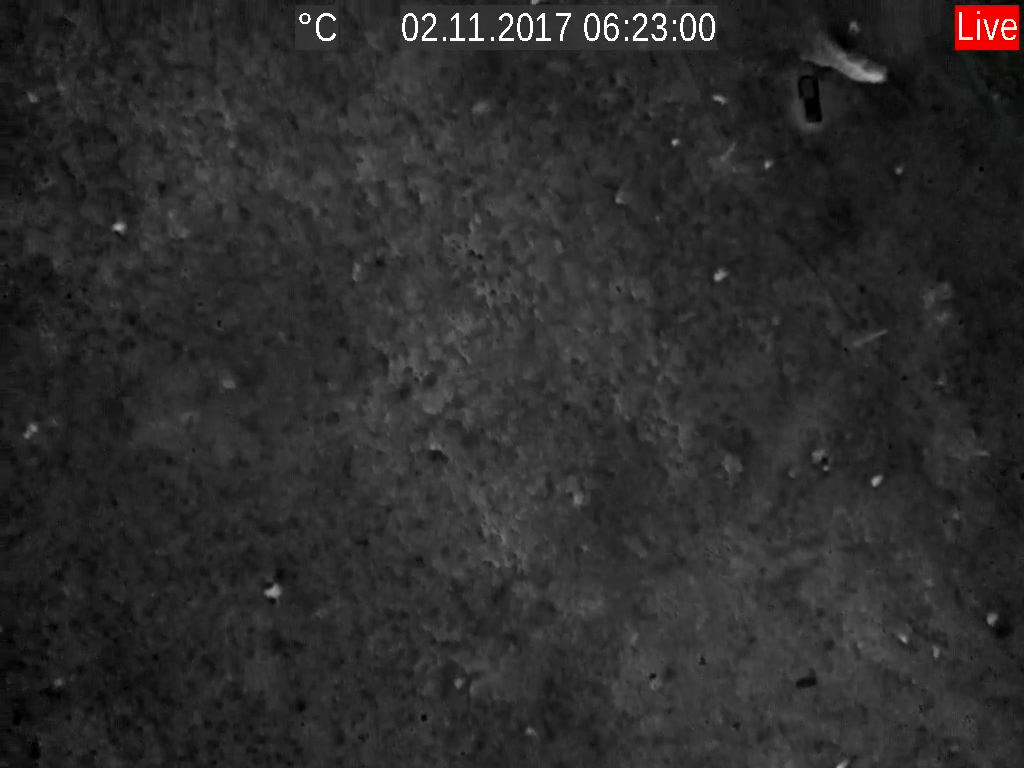warren: (811, 33, 890, 86), (845, 320, 893, 352), (259, 574, 288, 602), (105, 213, 134, 240), (716, 140, 743, 164), (18, 420, 45, 444), (709, 264, 730, 285), (707, 88, 729, 108), (893, 625, 915, 645), (868, 468, 887, 491)
